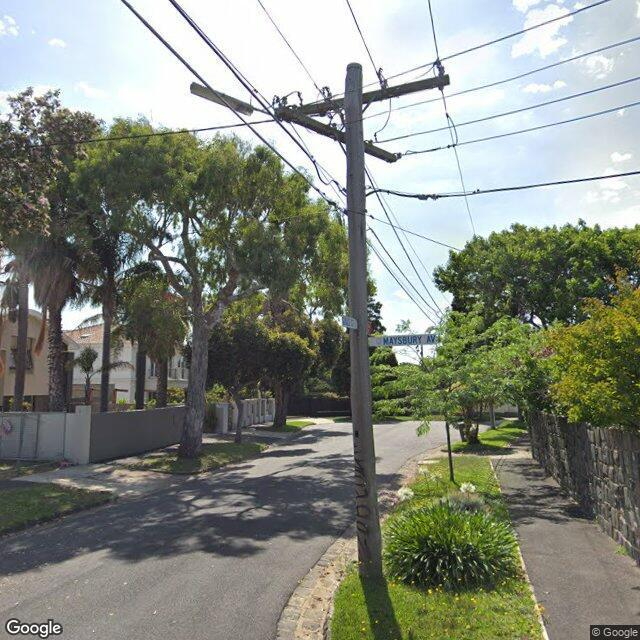crossarm: (274, 74, 449, 121), (276, 107, 396, 163)
streetlight: (190, 81, 276, 117)
timber-pole: (344, 63, 382, 578)
